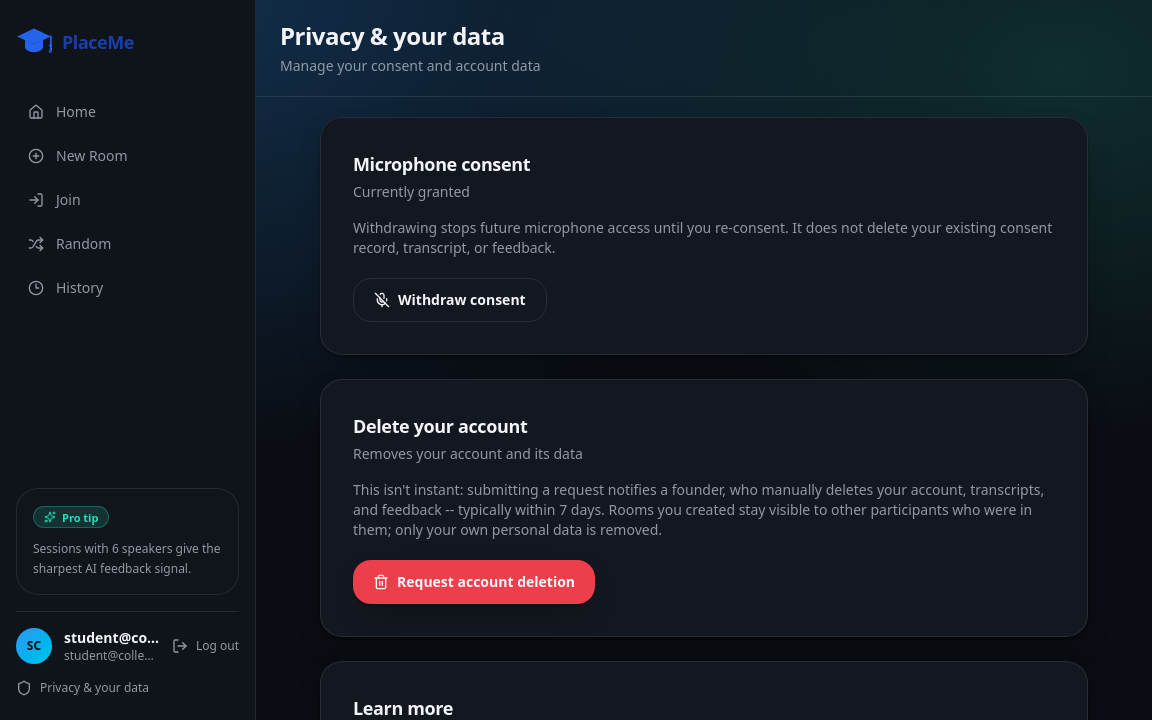
Test case: AccountPage — Privacy & your data › submits an account-deletion request and shows honest, non-instant confirmation copy
Click the button "Request account deletion": (474, 582) [353, 560, 595, 604]
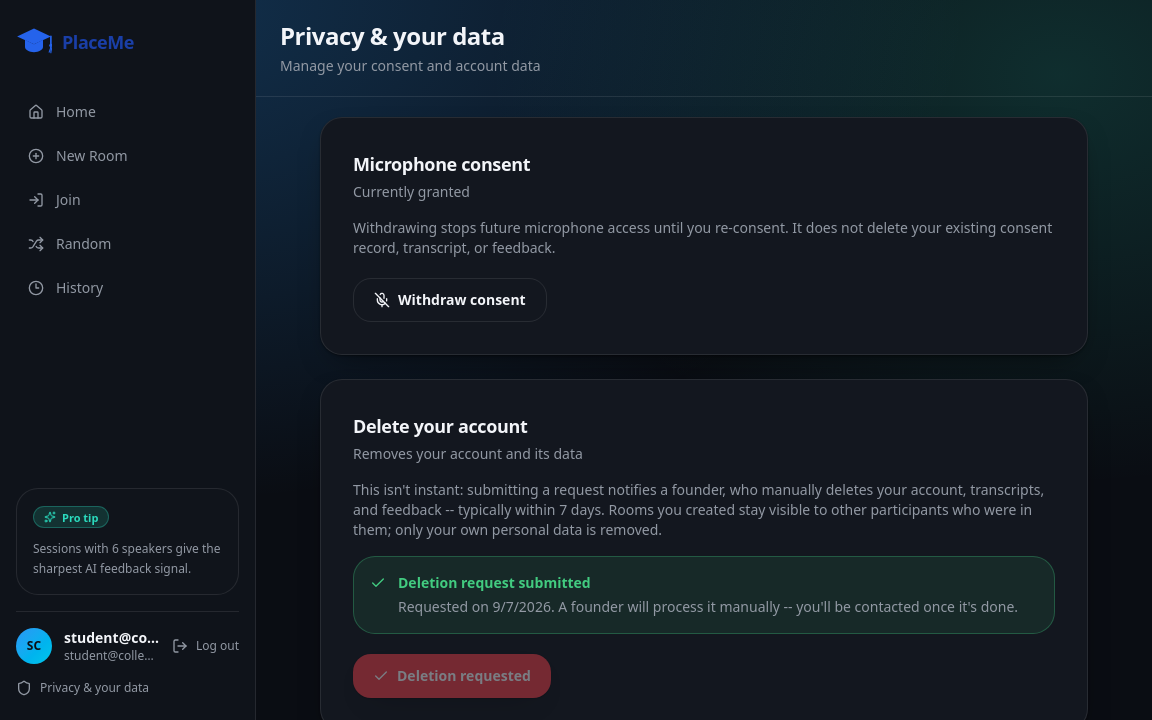
Result: the text "Deletion request submitted" is shown at [398, 573, 591, 592]
Result: the text "founder will process it manually" is shown at [398, 597, 1018, 616]
Result: the button "Deletion requested" is disabled at [353, 654, 551, 698]
